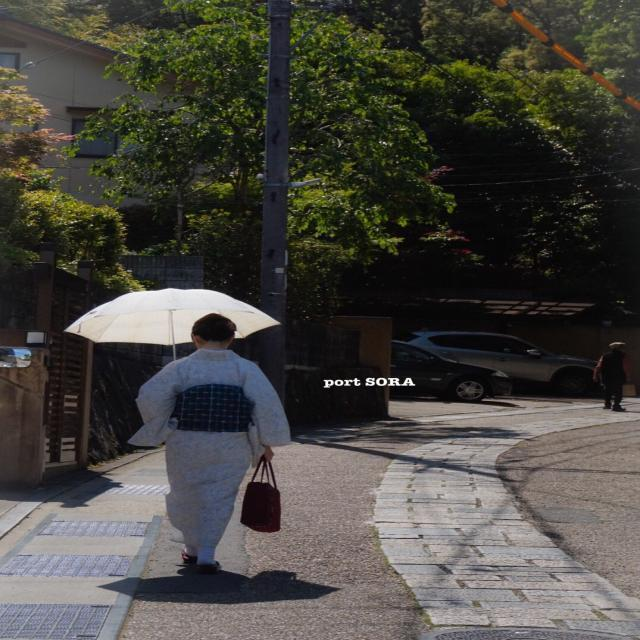direk: (134, 313, 290, 581)
